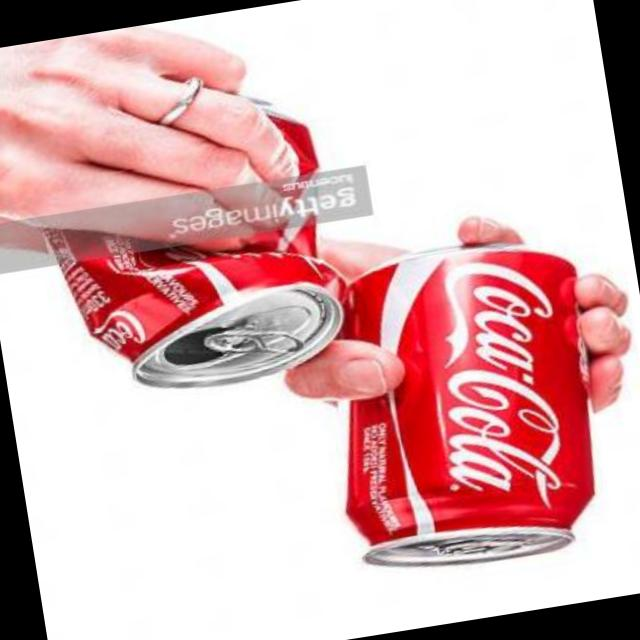metal: (344, 248, 595, 568)
